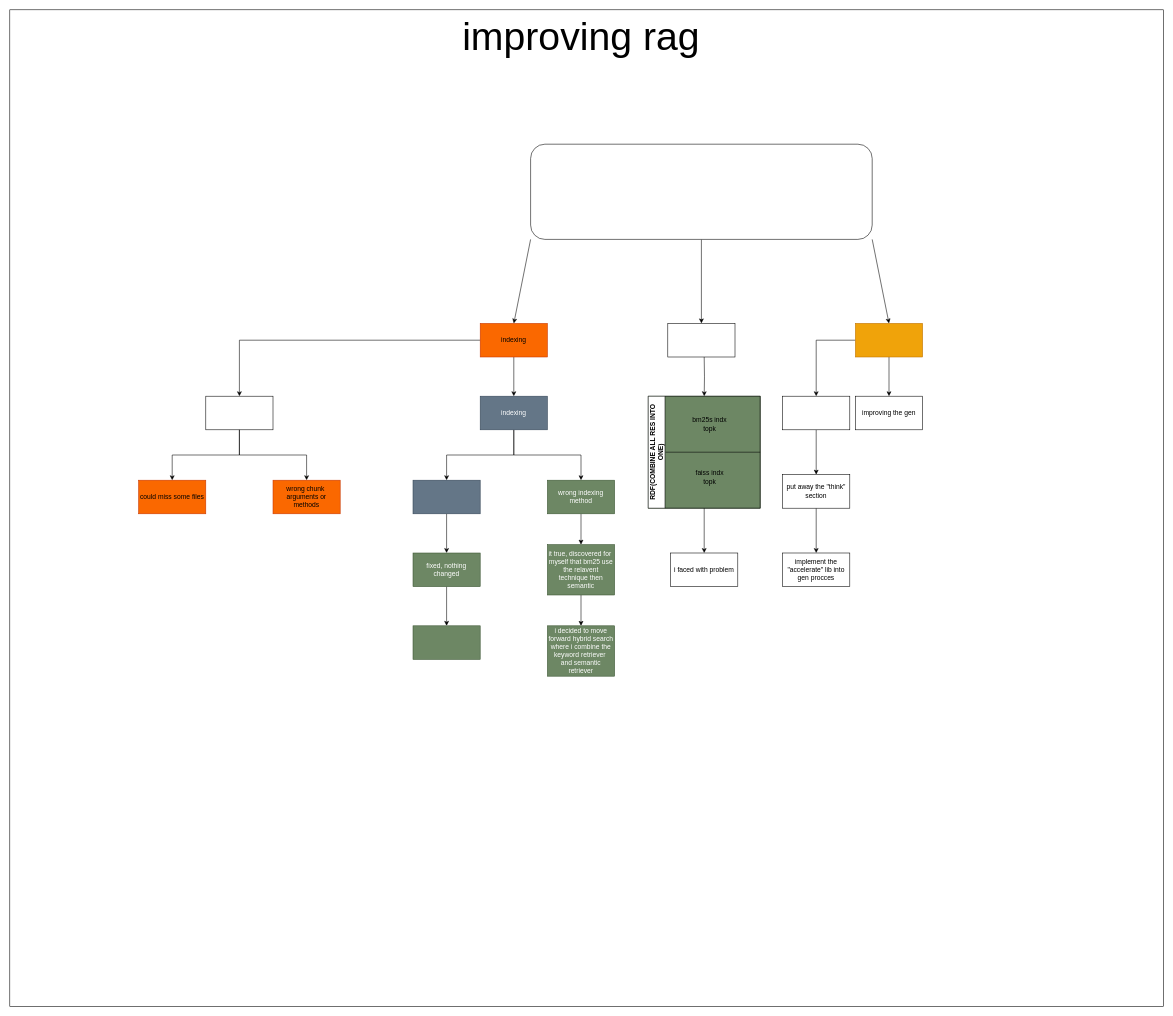
The diagram is 1173 pixels wide and 1016 high, and some of its shapes have lost their labels. The shapes that lost their labels are listed below. From the top down, each one's centre as x and y in pixels, then its label:
At (x=701, y=191): "DUMP ANSWERS".
At (x=701, y=340): "searching".
At (x=889, y=340): "generation".
At (x=239, y=413): "chunking".
At (x=816, y=413): "things that could accelerate my gen".
At (x=446, y=497): "pass untokenized corpus(metadata)".
At (x=446, y=642): "on top of that its ruins all stuff".
